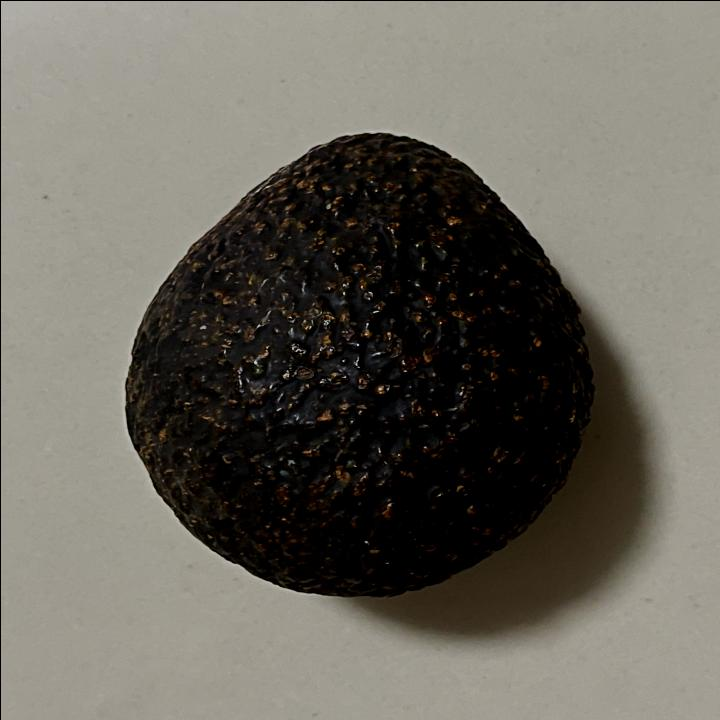Level3: (108, 120, 604, 602)
